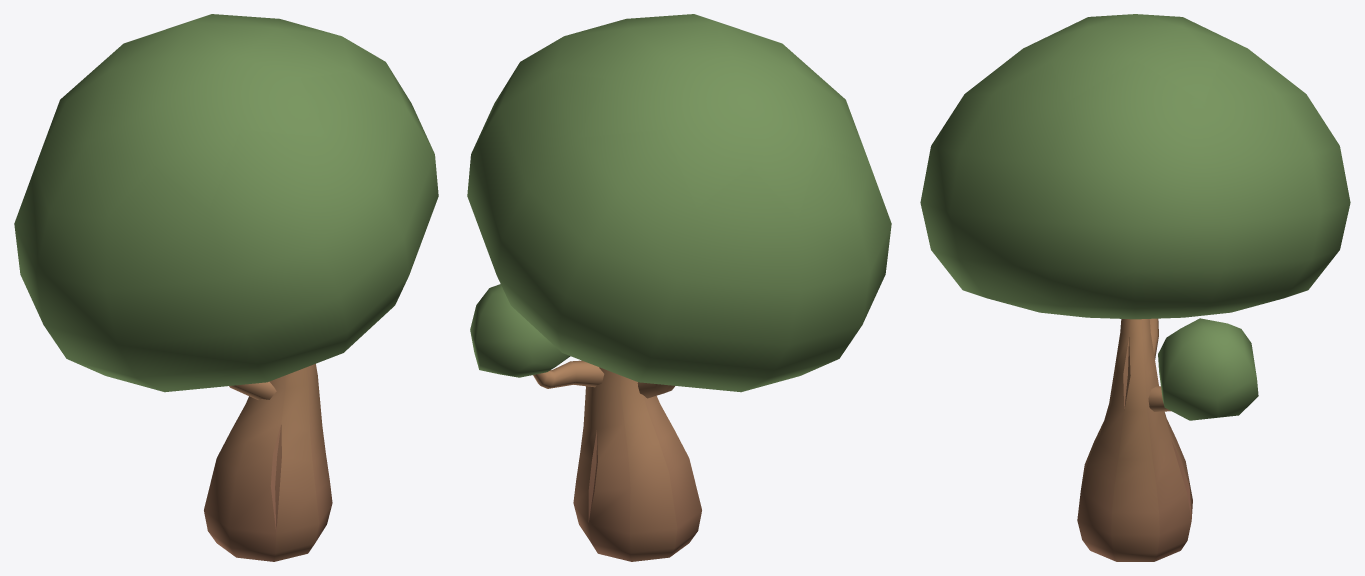
The model's file is meadow-tree-round.glb.
The picture shows the model from 3 angles, left to right: view 1: azimuth 30°, elevation 25°; view 2: azimuth 150°, elevation 25°; view 3: azimuth 270°, elevation 25°; orthographic projection. The views are drawn at different scales.
Parts seen in each view (by area): view 1: Meadow round; view 2: Meadow round; view 3: Meadow round.
Part boxes in pixels (box(x1,y1,x2,y2)): Meadow round: box(14, 14, 438, 561); Meadow round: box(467, 14, 891, 561); Meadow round: box(920, 14, 1350, 561).
Bounding box in the file's own units: 3.18 × 4.16 × 3.25.
